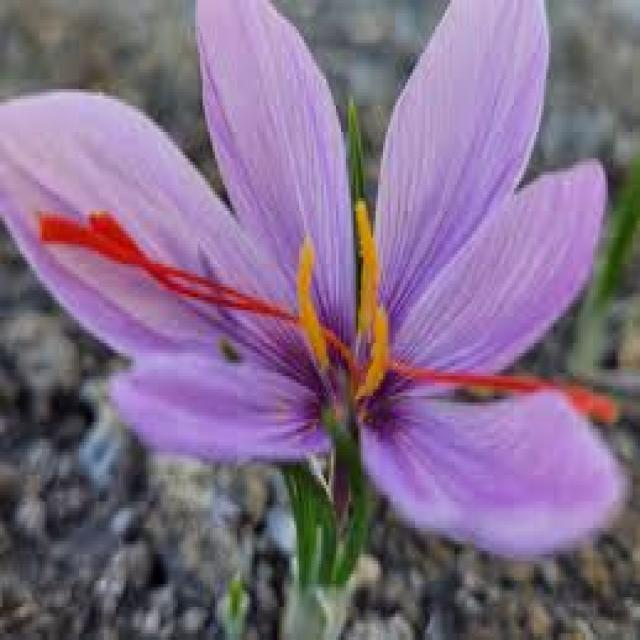Flower: (0, 3, 619, 591)
stigma: (45, 208, 292, 320), (399, 360, 616, 425)
